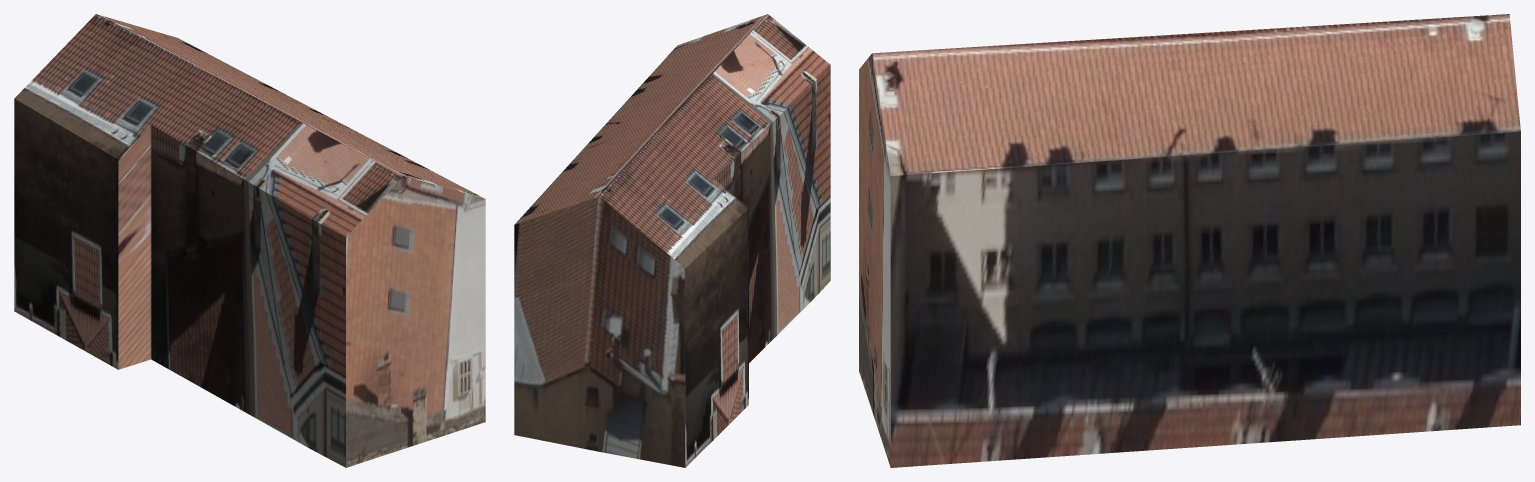
The picture shows the model from 3 angles, left to right: view 1: azimuth 30°, elevation 25°; view 2: azimuth 150°, elevation 25°; view 3: azimuth 270°, elevation 25°; orthographic projection. The views are drawn at different scales.
Visible parts, largest first — view 1: Z_UP; view 2: Z_UP; view 3: Z_UP.
Part boxes in pixels (x1,y1,x2,y2): Z_UP: (14,14,485,467); Z_UP: (514,14,830,467); Z_UP: (859,14,1520,467).
Bounding box in the file's own units: 14.22 × 15.48 × 25.98.
Materials: 2 (1 with a texture image).
